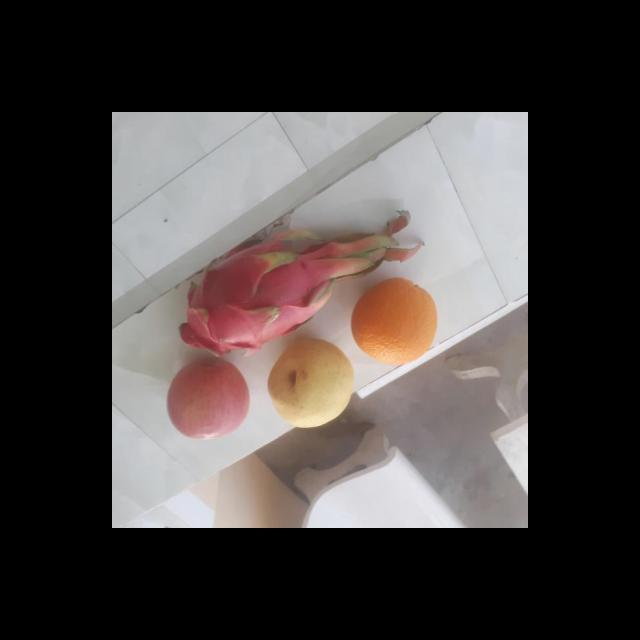apple: (162, 360, 250, 440)
orange: (348, 280, 441, 370)
pear: (262, 338, 358, 432)
pitaya: (178, 244, 326, 354)
